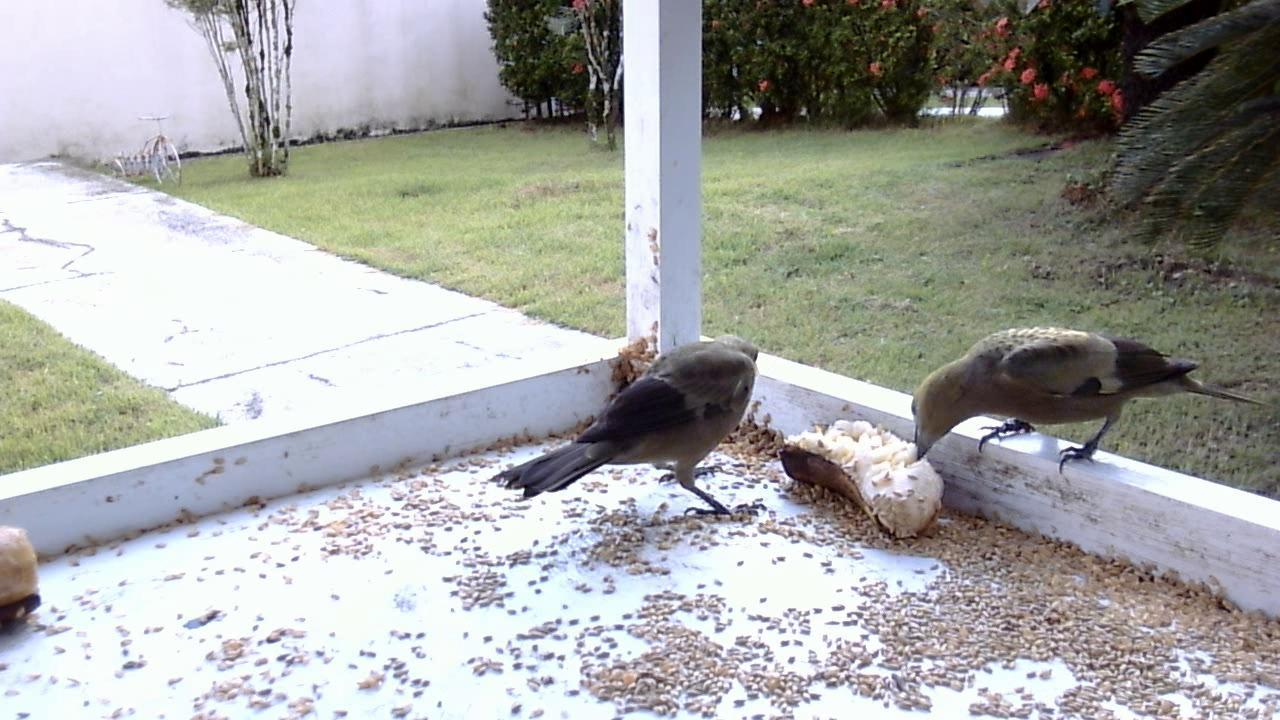sanhaco_do_coqueiro: (900, 319, 1264, 493), (485, 327, 764, 527)
